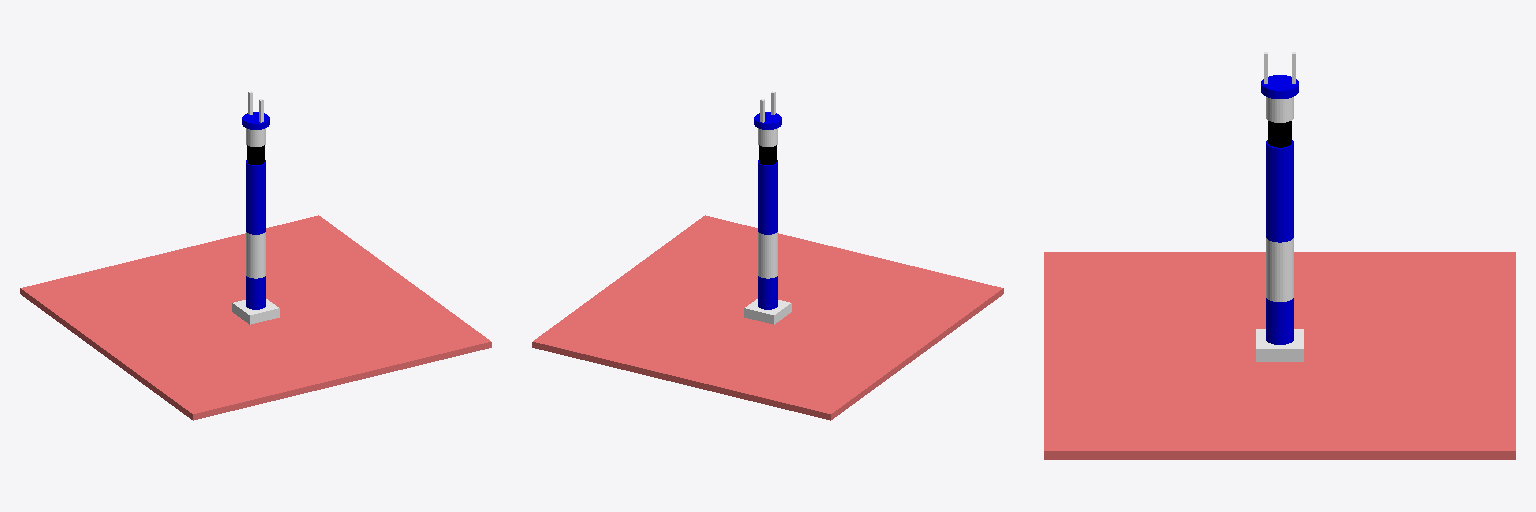
URDF robot description (arm):
<?xml version="1.0" ?>
<!-- =================================================================================== -->
<!-- |    This document was autogenerated by xacro from [local-path]/catkin_ws/src/marm/marm_description/urdf/arm.xacro | -->
<!-- |    EDITING THIS FILE BY HAND IS NOT RECOMMENDED                                 | -->
<!-- =================================================================================== -->
<robot name="arm">
    <!-- Defining the colors used in this robot -->
    <material name="Black">
        <color rgba="0 0 0 1" />
    </material>
    <material name="White">
        <color rgba="1 1 1 1" />
    </material>
    <material name="Blue">
        <color rgba="0 0 1 1" />
    </material>
    <material name="Red">
        <color rgba="1 0 0 1" />
    </material>
    <material name="Pink">
        <color rgba="1 0.5 0.5 1" />
    </material>
    <!-- ///////////////////////////////////////   bottom_joint   ////////////////////////////////////////// -->
    <joint name="bottom_joint" type="fixed">
        <origin rpy="0 0 0" xyz="0 0 0" />
        <parent link="base_link" />
        <child link="bottom_link" />
    </joint>
    <link name="bottom_link">
        <visual>
            <origin rpy="0 0 0" xyz=" 0 0 -0.02" />
            <geometry>
                <box size="1 1 0.02" />
            </geometry>
            <material name="Pink" />
        </visual>
        <collision>
            <origin rpy="0 0 0" xyz=" 0 0 -0.02" />
            <geometry>
                <box size="1 1 0.02" />
            </geometry>
        </collision>
        <inertial>
            <mass value="500" />
            <inertia ixx="1.0" ixy="0.0" ixz="0.0" iyy="0.5" iyz="0.0" izz="1.0" />
            <origin xyz="0 0 0" rpy="0 0 0" />
        </inertial>
    </link>
    <!-- /////////////////////////////////////   BASE LINK    ////////////////////////////////////////////// -->
    <link name="base_link">
        <visual>
            <origin rpy="0 0 0" xyz="0 0 0" />
            <geometry>
                <box size="0.1 0.1 0.04" />
            </geometry>
            <material name="White" />
        </visual>
        <collision>
            <origin rpy="0 0 0" xyz="0 0 0" />
            <geometry>
                <box size="0.1 0.1 0.04" />
            </geometry>
        </collision>
        <inertial>
            <mass value="0.1" />
            <origin xyz="0 0 0" rpy="0 0 0" />
            <inertia ixx="0.03" iyy="0.03" izz="0.03" ixy="0.0" ixz="0.0" iyz="0.0" />
        </inertial>
    </link>
    <joint name="joint1" type="revolute">
        <parent link="base_link" />
        <child link="link1" />
        <origin rpy="0 1.570795 0" xyz="0 0 0.02" />
        <axis xyz="-1 0 0" />
        <limit effort="300" lower="-2.96" upper="2.96" velocity="1" />
        <dynamics damping="50" friction="1" />
    </joint>
    <!-- /////////////////////////////////////   LINK1  ////////////////////////////////////////////// -->
    <link name="link1">
        <visual>
            <origin rpy="0 1.570795 0" xyz="-0.05 0 0" />
            <geometry>
                <cylinder length="0.1" radius="0.03" />
            </geometry>
            <material name="Blue" />
        </visual>
        <collision>
            <origin rpy="0 1.570795 0" xyz="-0.05 0 0" />
            <geometry>
                <cylinder length="0.1" radius="0.03" />
            </geometry>
        </collision>
        <inertial>
            <mass value="1" />
            <inertia ixx="1.0" ixy="0.0" ixz="0.0" iyy="0.5" iyz="0.0" izz="1.0" />
            <origin xyz="0 0 0" rpy="0 0 0" />
        </inertial>
    </link>
    <joint name="joint2" type="revolute">
        <parent link="link1" />
        <child link="link2" />
        <origin rpy="-1.570795 0 1.570795" xyz="-0.1 0 0.0" />
        <axis xyz="1 0 0" />
        <limit effort="300" lower="-2.35" upper="2.35" velocity="1" />
        <dynamics damping="50" friction="1" />
    </joint>
    <!-- ///////////////////////////////////////   LINK2  ////////////////////////////////////////////// -->
    <link name="link2">
        <visual>
            <origin rpy="0 0 0" xyz="0 0 0.07" />
            <geometry>
                <cylinder length="0.14" radius="0.03" />
            </geometry>
            <material name="White" />
        </visual>
        <collision>
            <origin rpy="0 0 0" xyz="0 0 0.07" />
            <geometry>
                <cylinder length="0.14" radius="0.03" />
            </geometry>
        </collision>
        <inertial>
            <mass value="1" />
            <inertia ixx="1.0" ixy="0.0" ixz="0.0" iyy="0.5" iyz="0.0" izz="1.0" />
            <origin xyz="0 0 0" rpy="0 0 0" />
        </inertial>
    </link>
    <joint name="joint3" type="revolute">
        <parent link="link2" />
        <child link="link3" />
        <origin rpy="0 3.14159 0" xyz="0 0 0.14" />
        <axis xyz="-1 0 0" />
        <limit effort="300" lower="-2.62" upper="2.62" velocity="1" />
        <dynamics damping="50" friction="1" />
    </joint>
    <!-- /////////////////////////////////   LINK3  ///////////////////////////////////////////////////// -->
    <link name="link3">
        <visual>
            <origin rpy="0 0 0" xyz="0 0 -0.11" />
            <geometry>
                <cylinder length="0.22" radius="0.03" />
            </geometry>
            <material name="Blue" />
        </visual>
        <collision>
            <origin rpy="0 0 0" xyz="0 0 -0.11" />
            <geometry>
                <cylinder length="0.22" radius="0.03" />
            </geometry>
        </collision>
        <inertial>
            <mass value="1" />
            <inertia ixx="1.0" ixy="0.0" ixz="0.0" iyy="0.5" iyz="0.0" izz="1.0" />
            <origin xyz="0 0 0" rpy="0 0 0" />
        </inertial>
    </link>
    <joint name="joint4" type="revolute">
        <parent link="link3" />
        <child link="link4" />
        <origin rpy="0 1.570795 3.14159" xyz="0.0 0.0 -0.22" />
        <axis xyz="1 0 0" />
        <limit effort="300" lower="-2.62" upper="2.62" velocity="1" />
        <dynamics damping="50" friction="1" />
    </joint>
    <!-- ///////////////////////////////////   LINK4  //////////////////////////////////////////////// -->
    <link name="link4">
        <visual>
            <origin rpy="0 1.570795 0" xyz="0.03 0 0" />
            <geometry>
                <cylinder length="0.06" radius="0.025" />
            </geometry>
            <material name="Black" />
        </visual>
        <collision>
            <origin rpy="0 1.570795 0" xyz="0.03 0 0" />
            <geometry>
                <cylinder length="0.06" radius="0.025" />
            </geometry>
        </collision>
        <inertial>
            <mass value="1" />
            <inertia ixx="1.0" ixy="0.0" ixz="0.0" iyy="0.5" iyz="0.0" izz="1.0" />
            <origin xyz="0 0 0" rpy="0 0 0" />
        </inertial>
    </link>
    <joint name="joint5" type="revolute">
        <parent link="link4" />
        <child link="link5" />
        <origin rpy="0 1.570795 0" xyz="0.06 0.0 0.0" />
        <axis xyz="1 0 0" />
        <limit effort="300" lower="-2.62" upper="2.62" velocity="1" />
        <dynamics damping="50" friction="1" />
    </joint>
    <!-- //////////////////////////////////   LINK5  ///////////////////////////////////////////////// -->
    <link name="link5">
        <visual>
            <origin rpy="0 0 0" xyz="0 0 0.03" />
            <geometry>
                <cylinder length="0.06" radius="0.03" />
            </geometry>
            <material name="White" />
        </visual>
        <collision>
            <origin rpy="0 0 0" xyz="0 0 0.03 " />
            <geometry>
                <cylinder length="0.06" radius="0.03" />
            </geometry>
        </collision>
        <inertial>
            <mass value="1" />
            <inertia ixx="1.0" ixy="0.0" ixz="0.0" iyy="0.5" iyz="0.0" izz="1.0" />
            <origin xyz="0 0 0" rpy="0 0 0" />
        </inertial>
    </link>
    <joint name="joint6" type="revolute">
        <parent link="link5" />
        <child link="link6" />
        <origin rpy="4.712384999999999 -1.570795 0" xyz="0 0 0.06" />
        <axis xyz="1 0 0" />
        <limit effort="300" lower="-6.28" upper="6.28" velocity="1" />
        <dynamics damping="50" friction="1" />
    </joint>
    <!-- ////////////////////////////////   LINK6  ///////////////////////////////////////////////// -->
    <link name="link6">
        <visual>
            <origin rpy="0 1.570795 0" xyz="0.01 0 0 " />
            <geometry>
                <cylinder length="0.02" radius="0.04" />
            </geometry>
            <material name="Blue" />
        </visual>
        <collision>
            <origin rpy="0 1.570795 0" xyz="0.01 0 0" />
            <geometry>
                <cylinder length="0.02" radius="0.04" />
            </geometry>
        </collision>
        <inertial>
            <mass value="1" />
            <inertia ixx="1.0" ixy="0.0" ixz="0.0" iyy="0.5" iyz="0.0" izz="1.0" />
            <origin xyz="0 0 0" rpy="0 0 0" />
        </inertial>
    </link>
    <joint name="finger_joint1" type="prismatic">
        <parent link="link6" />
        <child link="gripper_finger_link1" />
        <origin xyz="0.0 0 0" />
        <axis xyz="0 1 0" />
        <limit effort="100" lower="0" upper="0.06" velocity="1.0" />
        <dynamics damping="50" friction="1" />
    </joint>
    <!-- //////////////////////////////////////   gripper   ////////////////////////////////////////////// -->
    <!-- LEFT GRIPPER AFT LINK -->
    <link name="gripper_finger_link1">
        <visual>
            <origin xyz="0.05 -0.03 0" />
            <geometry>
                <box size="0.08 0.01 0.01" />
            </geometry>
            <material name="White" />
        </visual>
        <collision>
            <origin xyz="0.05 -0.03 0" />
            <geometry>
                <box size="0.08 0.01 0.01" />
            </geometry>
        </collision>
        <inertial>
            <mass value="1" />
            <inertia ixx="1.0" ixy="0.0" ixz="0.0" iyy="0.5" iyz="0.0" izz="1.0" />
            <origin xyz="0 0 0" rpy="0 0 0" />
        </inertial>
    </link>
    <joint name="finger_joint2" type="fixed">
        <parent link="link6" />
        <child link="gripper_finger_link2" />
        <origin xyz="0.0 0 0" />
    </joint>
    <!-- RIGHT GRIPPER AFT LINK -->
    <link name="gripper_finger_link2">
        <visual>
            <origin xyz="0.05 0.03 0" />
            <geometry>
                <box size="0.08 0.01 0.01" />
            </geometry>
            <material name="White" />
        </visual>
        <collision>
            <origin xyz="0.05 0.03 0" />
            <geometry>
                <box size="0.08 0.01 0.01" />
            </geometry>
        </collision>
        <inertial>
            <mass value="1" />
            <inertia ixx="1.0" ixy="0.0" ixz="0.0" iyy="0.5" iyz="0.0" izz="1.0" />
            <origin xyz="0 0 0" rpy="0 0 0" />
        </inertial>
    </link>
    <!-- Grasping frame -->
    <link name="grasping_frame" />
    <joint name="grasping_frame_joint" type="fixed">
        <parent link="link6" />
        <child link="grasping_frame" />
        <origin rpy="0 0 0" xyz="0.08 0 0" />
    </joint>
    <!-- /////////////////////////////////   Gazebo   ////////////////////////////////////// -->
    <gazebo reference="bottom_link">
        <material>Gazebo/White</material>
        <plugin name="gazebo_ros_control">
            <robotNamespace>/</robotNamespace>
        </plugin>
    </gazebo>
    <gazebo reference="base_link">
        <material>Gazebo/White</material>
    </gazebo>
    <gazebo reference="link1">
        <material>Gazebo/Blue</material>
    </gazebo>
    <gazebo reference="link2">
        <material>Gazebo/White</material>
    </gazebo>
    <gazebo reference="link3">
        <material>Gazebo/Blue</material>
    </gazebo>
    <gazebo reference="link4">
        <material>Gazebo/Black</material>
    </gazebo>
    <gazebo reference="link5">
        <material>Gazebo/White</material>
    </gazebo>
    <gazebo reference="link6">
        <material>Gazebo/Blue</material>
    </gazebo>
    <gazebo reference="gripper_finger_link1">
        <material>Gazebo/White</material>
    </gazebo>
    <gazebo reference="gripper_finger_link2">
        <material>Gazebo/White</material>
    </gazebo>
    <transmission name="tran1">
        <type>transmission_interface/SimpleTransmission</type>
        <joint name="joint1">
            <hardwareInterface>hardware_interface/PositionJointInterface</hardwareInterface>
        </joint>
        <actuator name="motor1">
            <hardwareInterface>hardware_interface/PositionJointInterface</hardwareInterface>
            <mechanicalReduction>1</mechanicalReduction>
        </actuator>
    </transmission>
    <transmission name="tran1">
        <type>transmission_interface/SimpleTransmission</type>
        <joint name="joint2">
            <hardwareInterface>hardware_interface/PositionJointInterface</hardwareInterface>
        </joint>
        <actuator name="motor1">
            <hardwareInterface>hardware_interface/PositionJointInterface</hardwareInterface>
            <mechanicalReduction>1</mechanicalReduction>
        </actuator>
    </transmission>
    <transmission name="tran1">
        <type>transmission_interface/SimpleTransmission</type>
        <joint name="joint3">
            <hardwareInterface>hardware_interface/PositionJointInterface</hardwareInterface>
        </joint>
        <actuator name="motor1">
            <hardwareInterface>hardware_interface/PositionJointInterface</hardwareInterface>
            <mechanicalReduction>1</mechanicalReduction>
        </actuator>
    </transmission>
    <transmission name="tran1">
        <type>transmission_interface/SimpleTransmission</type>
        <joint name="joint4">
            <hardwareInterface>hardware_interface/PositionJointInterface</hardwareInterface>
        </joint>
        <actuator name="motor1">
            <hardwareInterface>hardware_interface/PositionJointInterface</hardwareInterface>
            <mechanicalReduction>1</mechanicalReduction>
        </actuator>
    </transmission>
    <transmission name="tran1">
        <type>transmission_interface/SimpleTransmission</type>
        <joint name="joint5">
            <hardwareInterface>hardware_interface/PositionJointInterface</hardwareInterface>
        </joint>
        <actuator name="motor1">
            <hardwareInterface>hardware_interface/PositionJointInterface</hardwareInterface>
            <mechanicalReduction>1</mechanicalReduction>
        </actuator>
    </transmission>
    <transmission name="tran1">
        <type>transmission_interface/SimpleTransmission</type>
        <joint name="joint6">
            <hardwareInterface>hardware_interface/PositionJointInterface</hardwareInterface>
        </joint>
        <actuator name="motor1">
            <hardwareInterface>hardware_interface/PositionJointInterface</hardwareInterface>
            <mechanicalReduction>1</mechanicalReduction>
        </actuator>
    </transmission>
    <transmission name="tran1">
        <type>transmission_interface/SimpleTransmission</type>
        <joint name="finger_joint1">
            <hardwareInterface>hardware_interface/PositionJointInterface</hardwareInterface>
        </joint>
        <actuator name="motor1">
            <hardwareInterface>hardware_interface/PositionJointInterface</hardwareInterface>
            <mechanicalReduction>1</mechanicalReduction>
        </actuator>
    </transmission>
    <!-- ros_control plugin -->
    <gazebo>
        <plugin filename="libgazebo_ros_control.so" name="gazebo_ros_control">
            <robotNamespace>/arm</robotNamespace>
        </plugin>
    </gazebo>
</robot>

--- Facts derived from the render (not from the file) ---
Views: 3 orthographic renders of the robot side by side, from view 1: azimuth 30°, elevation 25°; view 2: azimuth 150°, elevation 25°; view 3: azimuth 270°, elevation 25°.
Model arm with 11 links and 10 joints (6 revolute, 1 prismatic, 3 fixed), rooted at base_link, posed all joints at 0.
Links seen in each view (by area): view 1: bottom_link, link3, link2, base_link, link1; view 2: bottom_link, link3, link2, base_link, link1; view 3: bottom_link, link3, link2, link1, base_link, link6, link5, link4.
Boxes of the visible links, left/top/right/bottom form: bottom_link: left=20, top=215, right=491, bottom=420; link3: left=246, top=160, right=265, bottom=234; link2: left=246, top=232, right=265, bottom=278; base_link: left=232, top=299, right=279, bottom=324; link1: left=246, top=276, right=265, bottom=309; bottom_link: left=532, top=215, right=1003, bottom=420; link3: left=758, top=160, right=777, bottom=234; link2: left=758, top=232, right=777, bottom=278; base_link: left=744, top=299, right=791, bottom=324; link1: left=758, top=276, right=777, bottom=309; bottom_link: left=1044, top=252, right=1515, bottom=459; link3: left=1266, top=140, right=1293, bottom=242; link2: left=1266, top=238, right=1293, bottom=301; link1: left=1266, top=298, right=1293, bottom=344; base_link: left=1256, top=329, right=1303, bottom=361; link6: left=1261, top=75, right=1298, bottom=98; link5: left=1266, top=97, right=1293, bottom=122; link4: left=1268, top=121, right=1291, bottom=147.
Size in the robot's own frame: 1 by 1 by 0.72 metres.
Geometry: primitives only (box / cylinder / sphere), no mesh files.